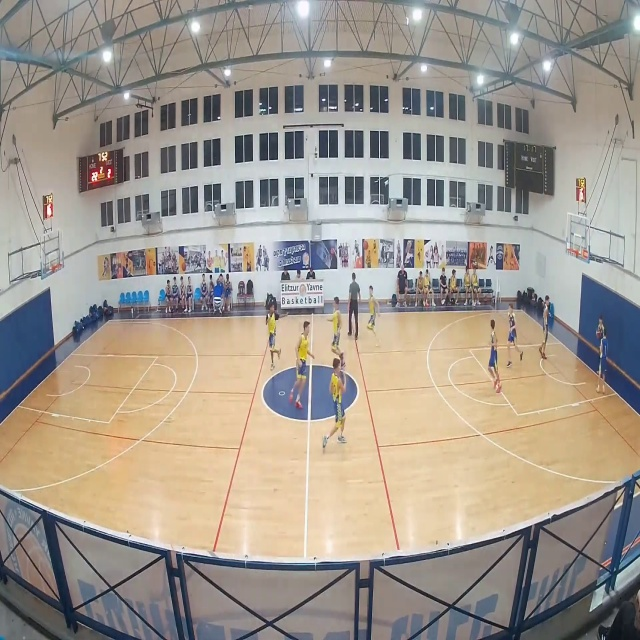Basketball: (596, 332, 601, 339)
